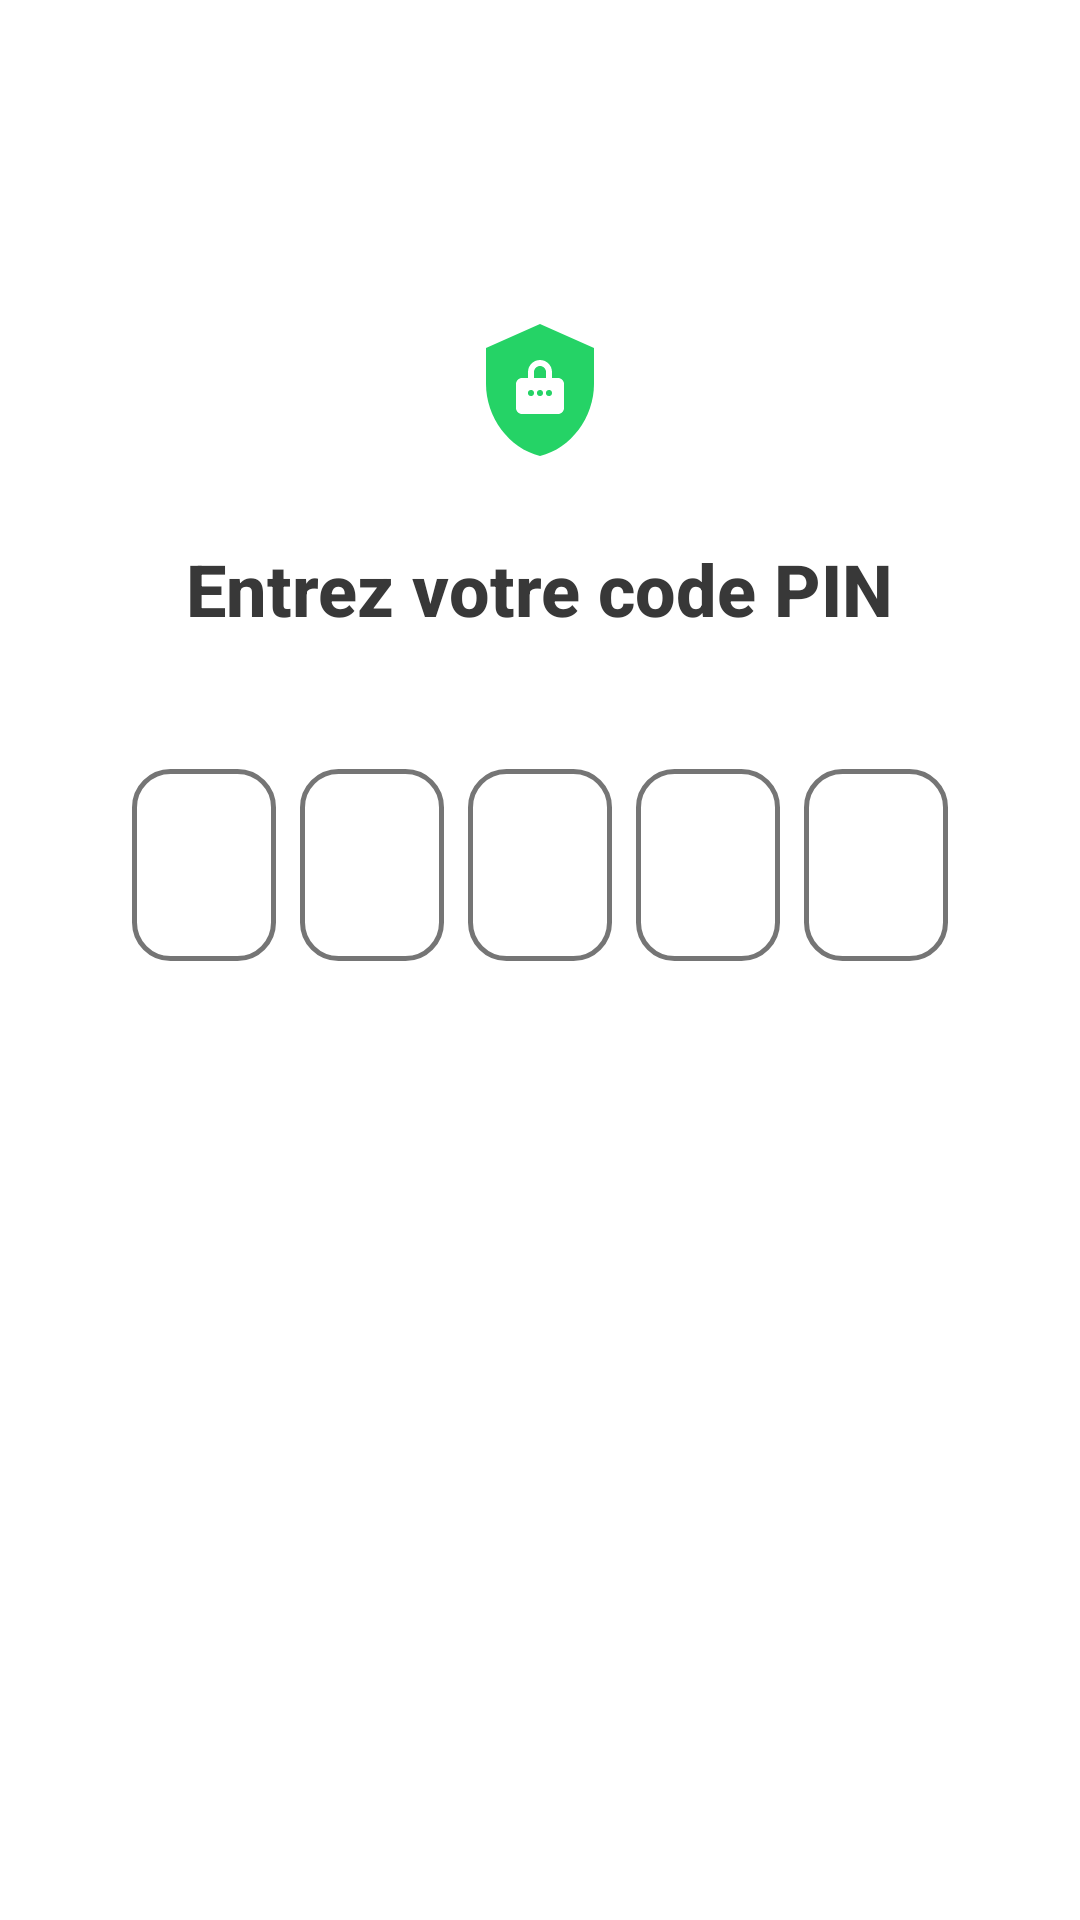

Where to tap for icons on this 1080px x 1920px app screen, as point (x, y):
icône de l'application: point (540, 390)
